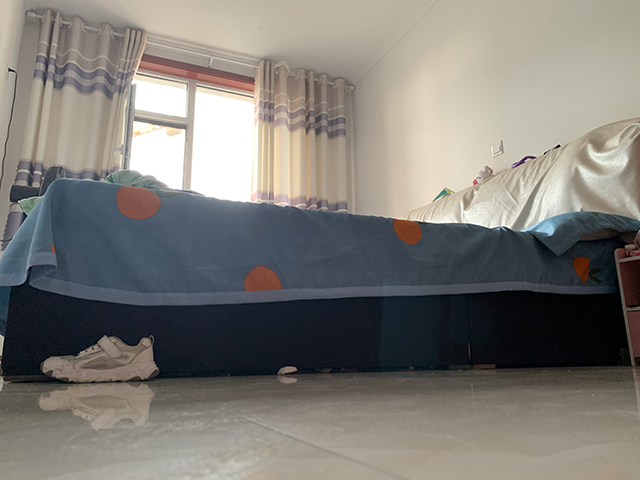bed: (1, 115, 640, 384)
